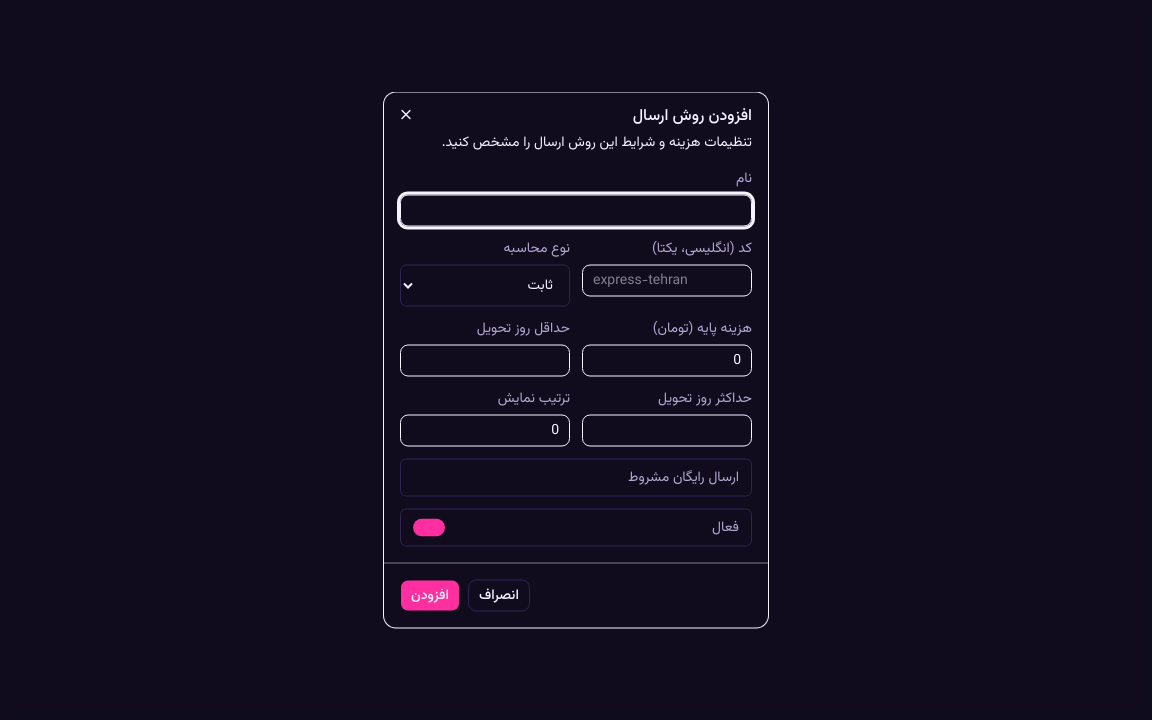
it: ShippingMethodFormDialog › create mode › shows error message on API failure
Step 1. Type "پست جدید" into the 1st field → (576, 210), box [400, 194, 752, 226]
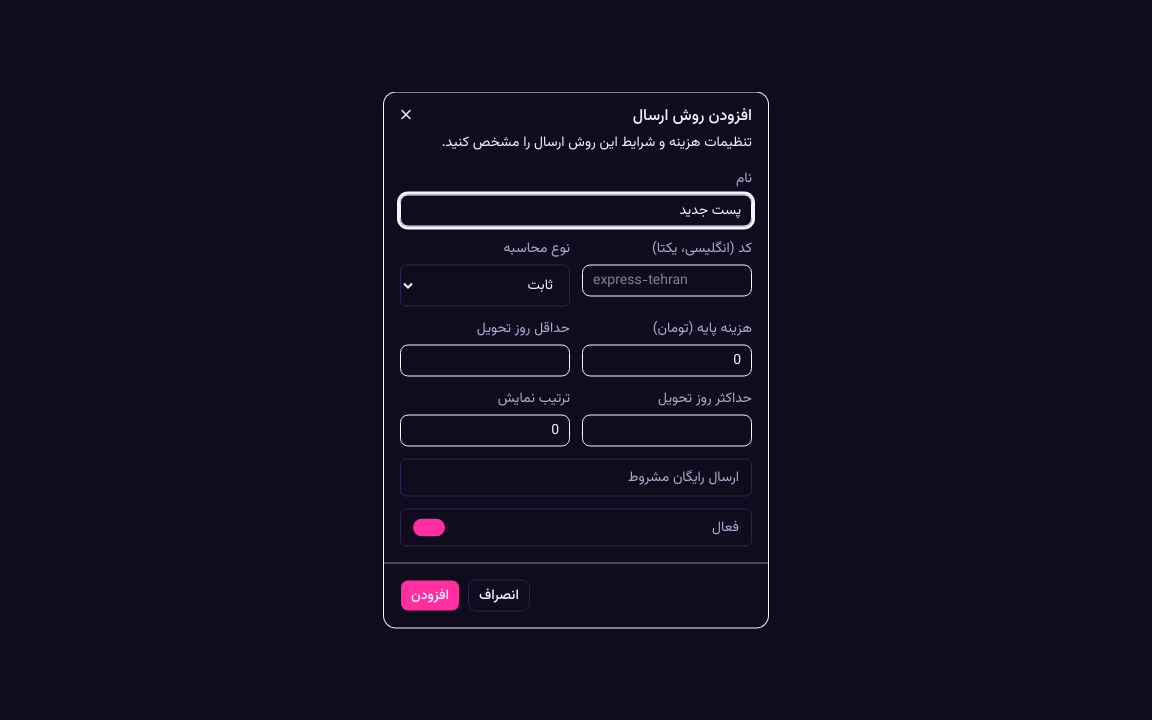
Step 2. Type "new-post" into the field with placeholder "express-tehran" → (667, 280), box [582, 264, 752, 296]
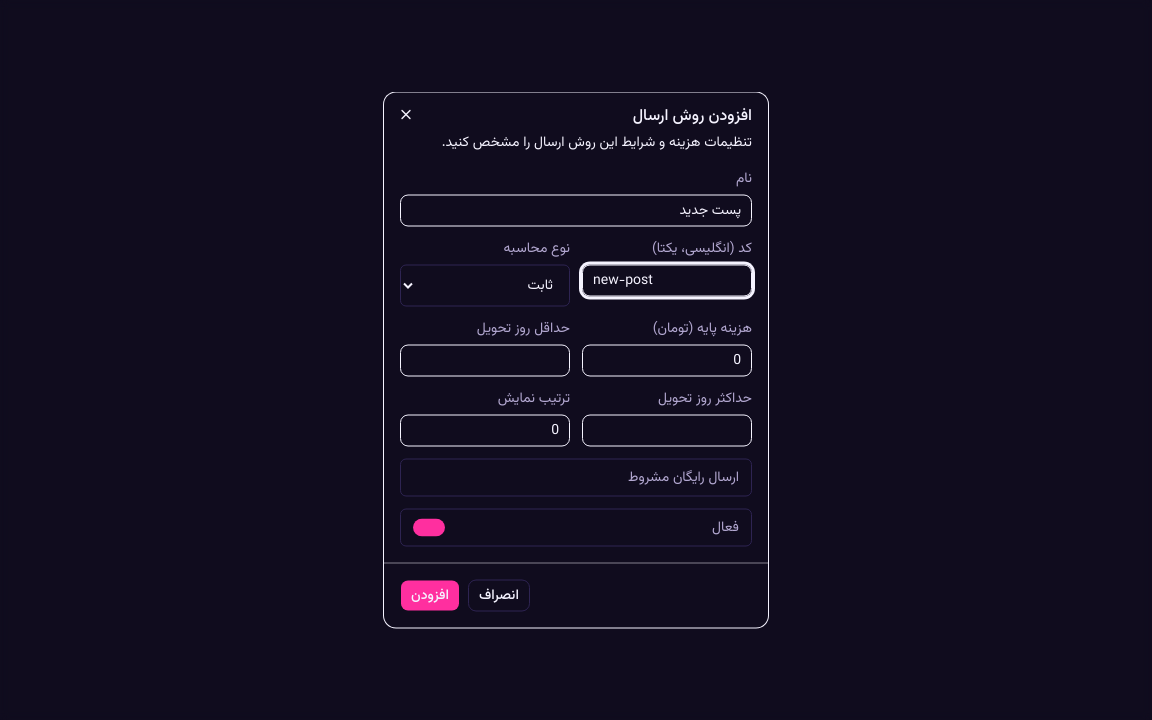
Step 3. Click the button "افزودن" → (430, 596), box [400, 580, 460, 612]
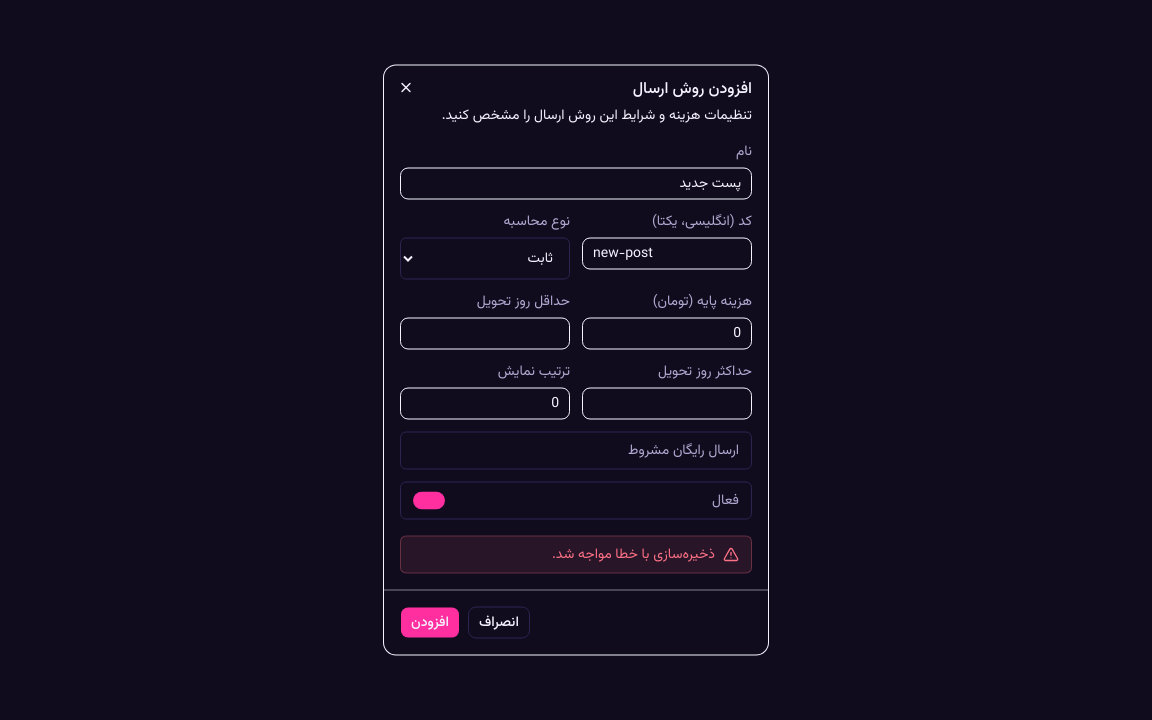
expect the text "ذخیره‌سازی با خطا مواجه شد." is shown: met, box [552, 544, 715, 564]
